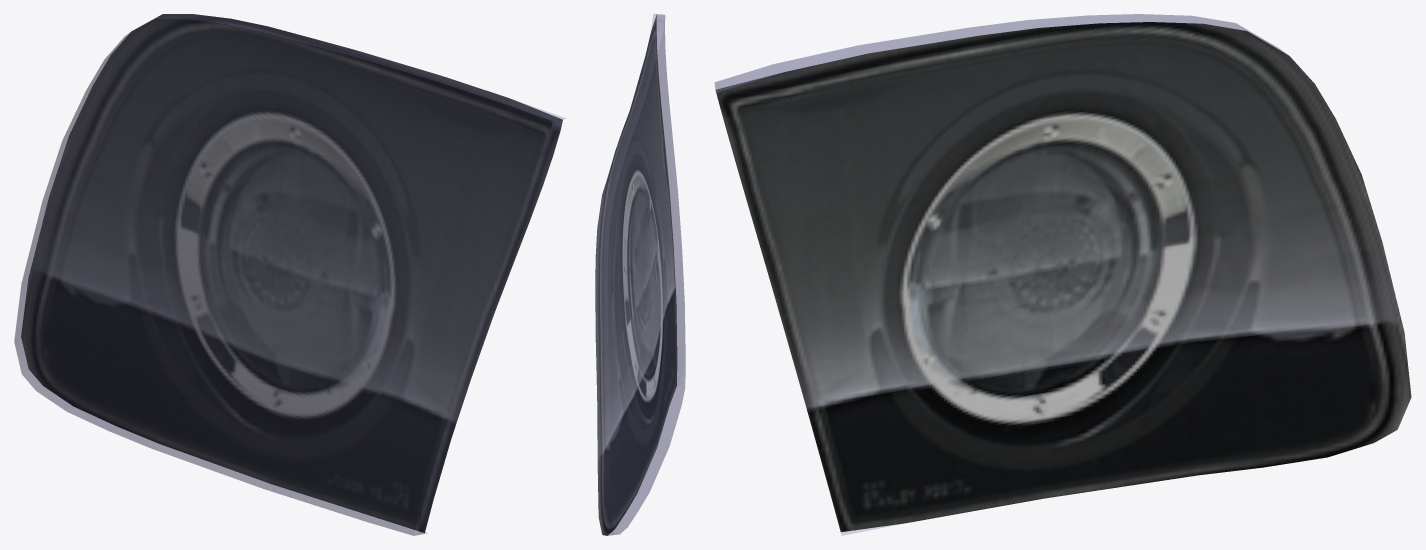
3 renders of one model, left to right at view 1: azimuth 30°, elevation 25°; view 2: azimuth 150°, elevation 25°; view 3: azimuth 270°, elevation 25°, orthographic. The views are drawn at different scales.
Parts seen in each view (by area): view 1: D160_541D_R_D160_541D_R_2_DTaSI, D160_541D_R_1_N_D160_541D_R; view 2: D160_541D_R_D160_541D_R_2_DTaSI, D160_541D_R_1_N_D160_541D_R; view 3: D160_541D_R_1_N_D160_541D_R, D160_541D_R_D160_541D_R_2_DTaSI.
Part boxes in pixels (x1=…): D160_541D_R_D160_541D_R_2_DTaSI: x1=14, y1=14, x2=565, y2=535; D160_541D_R_1_N_D160_541D_R: x1=21, y1=14, x2=562, y2=532; D160_541D_R_D160_541D_R_2_DTaSI: x1=595, y1=14, x2=685, y2=535; D160_541D_R_1_N_D160_541D_R: x1=595, y1=15, x2=677, y2=535; D160_541D_R_1_N_D160_541D_R: x1=715, y1=22, x2=1411, y2=531; D160_541D_R_D160_541D_R_2_DTaSI: x1=714, y1=14, x2=1287, y2=535.
Bounding box in the file's own units: 11.94 × 20.37 × 25.83.
